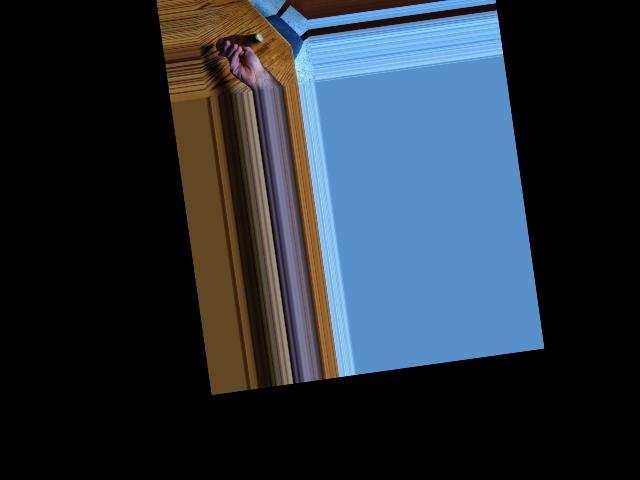sweet_potato: (214, 30, 265, 56)
